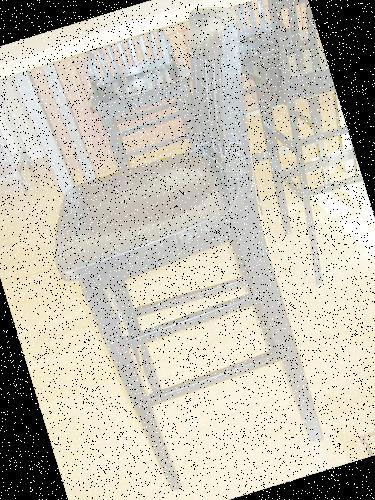Silla: (0, 1, 358, 499)
